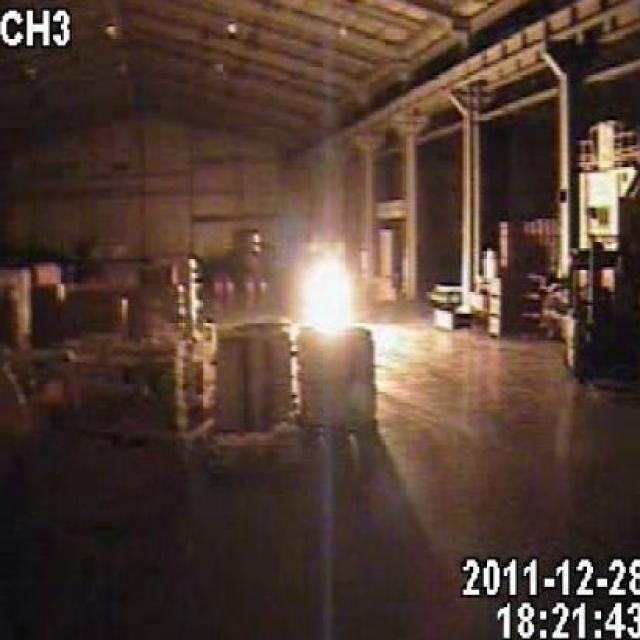smoke: (297, 238, 353, 335)
